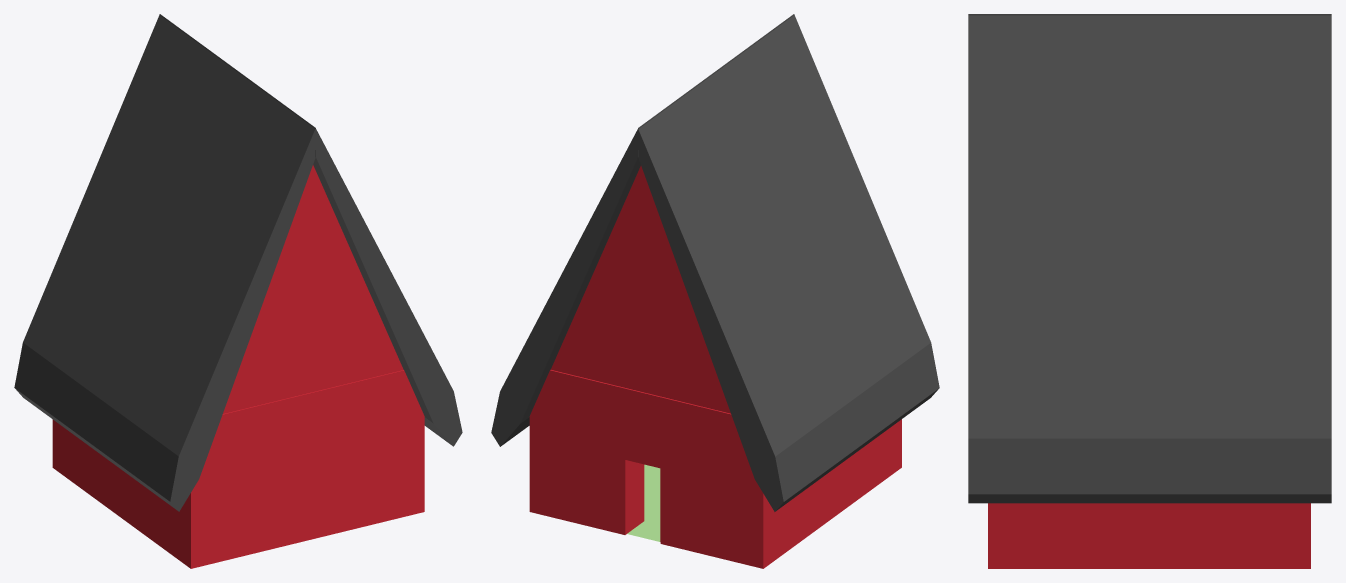
Rendered from house.fbx.
3 views of the same model, side by side, from view 1: azimuth 30°, elevation 25°; view 2: azimuth 150°, elevation 25°; view 3: azimuth 270°, elevation 25° (orthographic). The views are drawn at different scales.
Parts seen in each view (by area): view 1: Roof, Base, Side Paneling.001; view 2: Roof, Base, Side Paneling, Floor; view 3: Roof, Base.
Boxes of the visible parts, bbox=[...] form: Roof: bbox=[14, 14, 462, 511]; Base: bbox=[52, 370, 424, 568]; Side Paneling.001: bbox=[223, 165, 403, 413]; Roof: bbox=[491, 14, 939, 511]; Base: bbox=[529, 370, 901, 568]; Side Paneling: bbox=[551, 166, 730, 413]; Floor: bbox=[627, 464, 660, 541]; Roof: bbox=[968, 14, 1331, 503]; Base: bbox=[988, 503, 1310, 568].
Size of the model in its own units: 1286 by 1760 by 1188.
